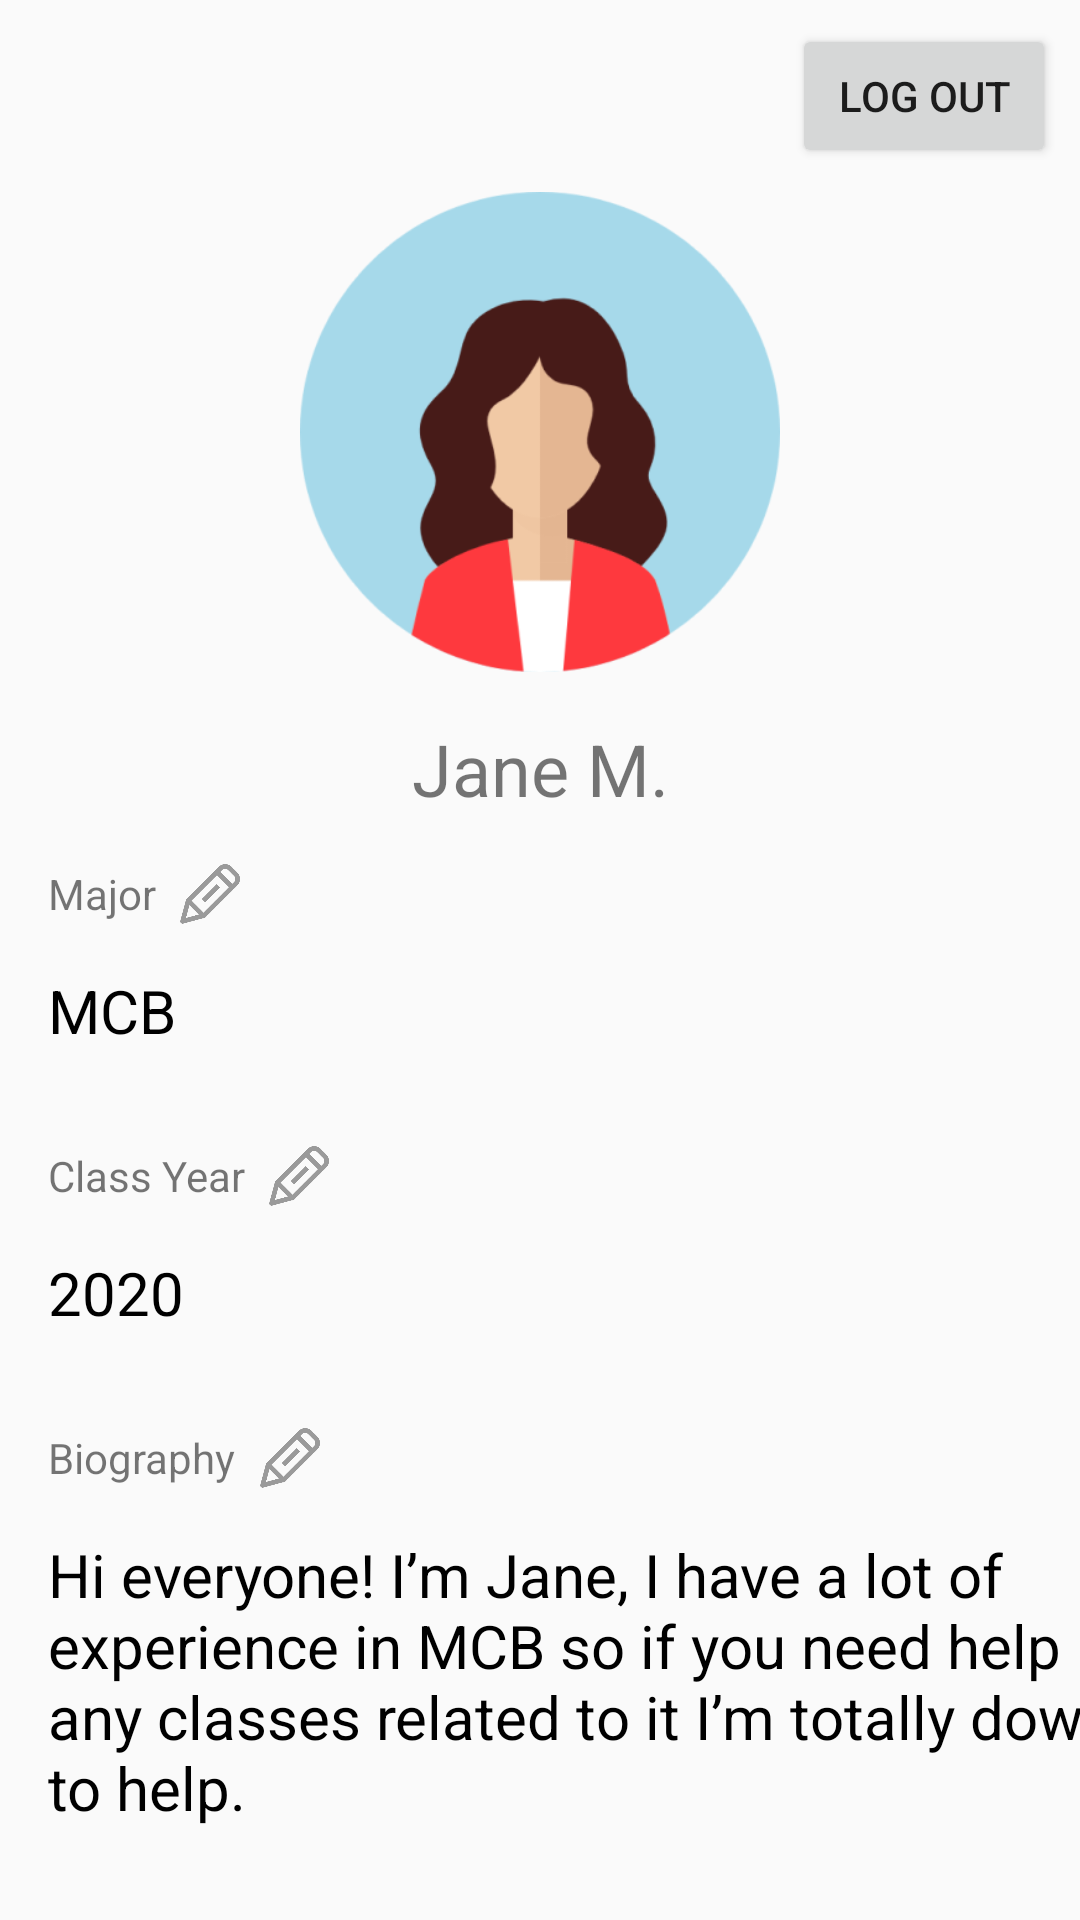

Named icons in this screenshot (1080px×1920px) and their bounding boxes, (x1, y1, x2, y2):
edit: (180, 864, 240, 924), (269, 1146, 329, 1206), (260, 1428, 320, 1488)
